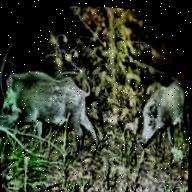boar: (0, 45, 104, 175), (127, 71, 191, 156)
